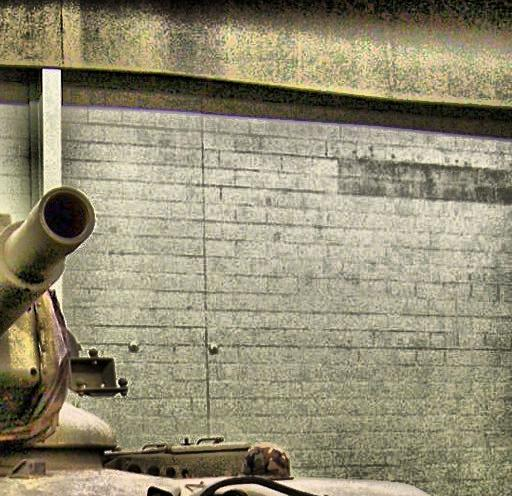tanks: (1, 187, 429, 496)
